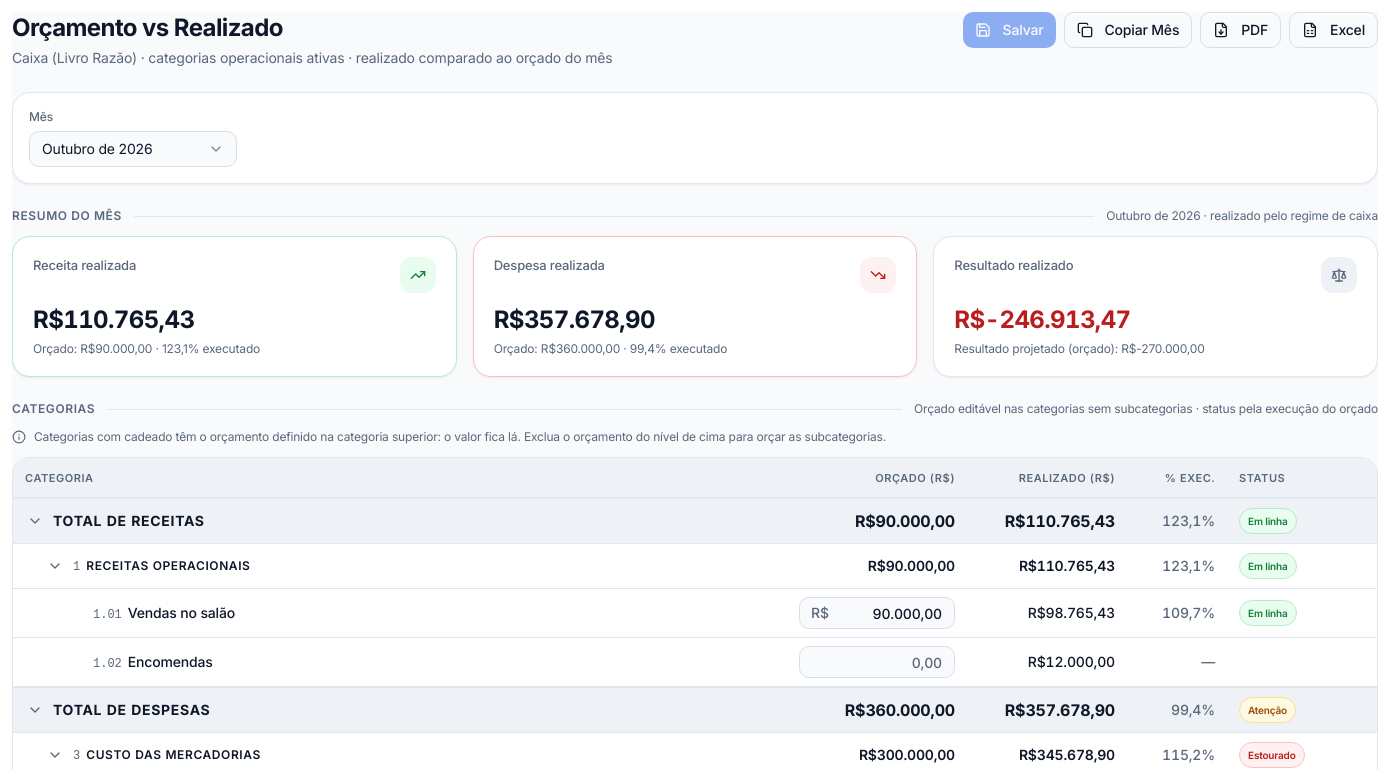
Test: Orçamento × Realizado › digitar um orçado conta em "Salvar (n)" e avisa, mas não grava; fechar a tela também não grava
In the field named "Orçado de Encomendas": x=877, y=662 [799,646,955,678], type "15000"
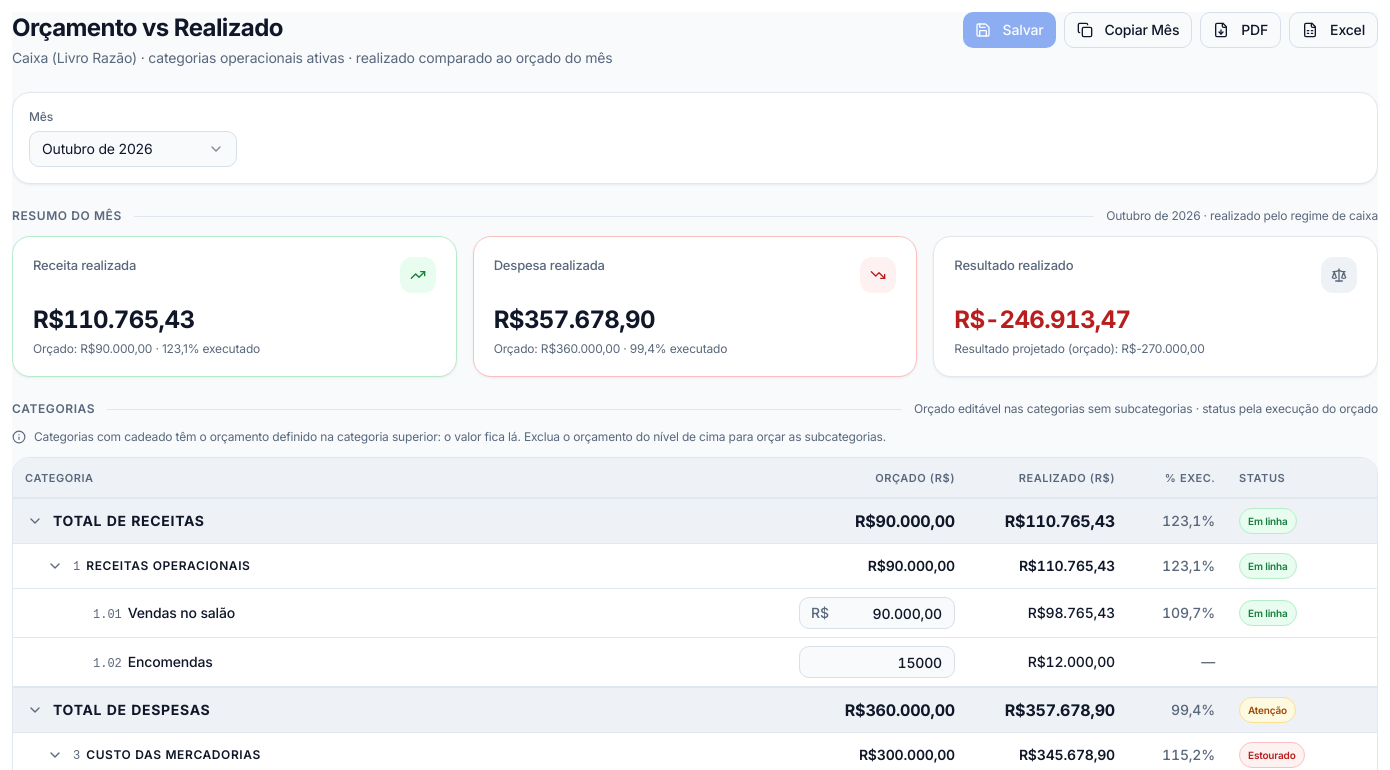
Leave the field named "Orçado de Encomendas", box [799,646,955,678]
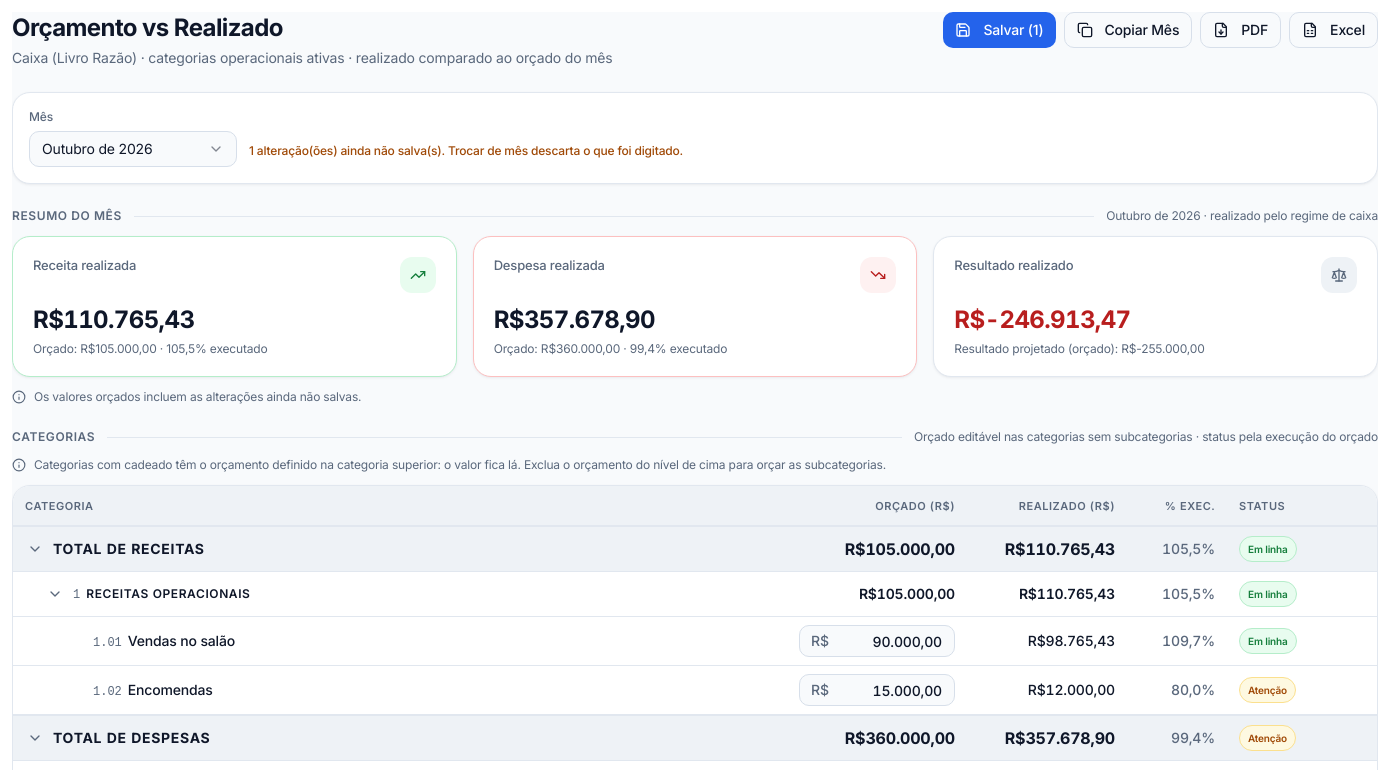
Expected: the button "Salvar (1)" is enabled, [943,12,1056,48]
Expected: the text "1 alteração(ões) ainda não salva(s). Trocar de mês descarta o que foi digitado." is shown, [249,143,683,167]
Expected: the text "Os valores orçados incluem as alterações ainda não salvas." is shown, [34,389,361,405]
